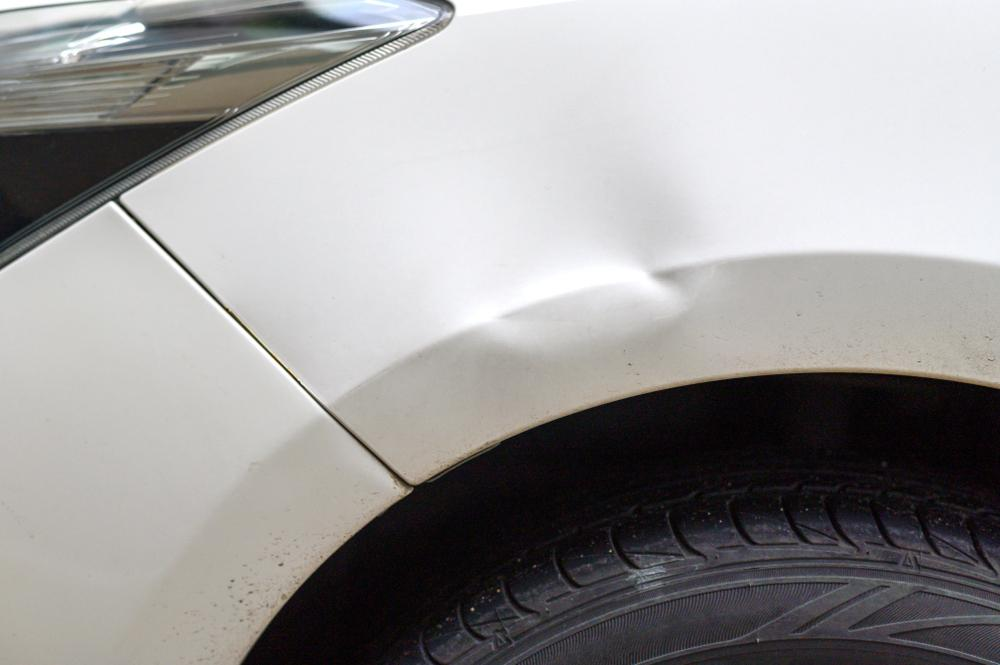dent: (428, 109, 712, 349)
